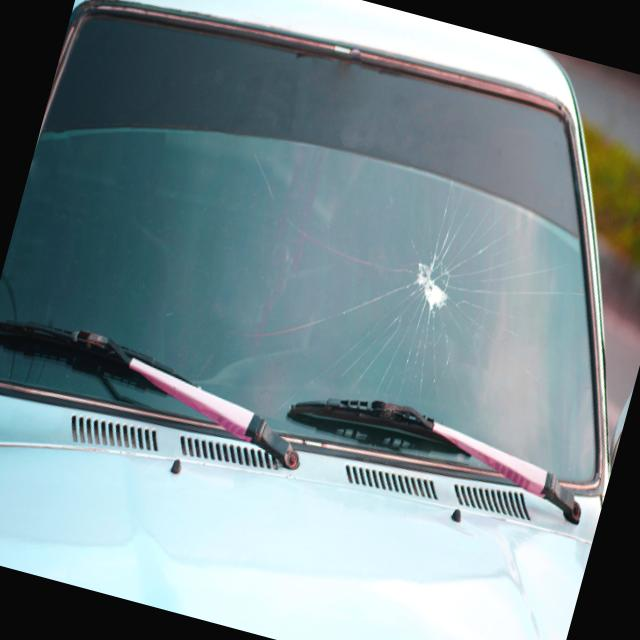Fissure: (180, 120, 604, 439)
